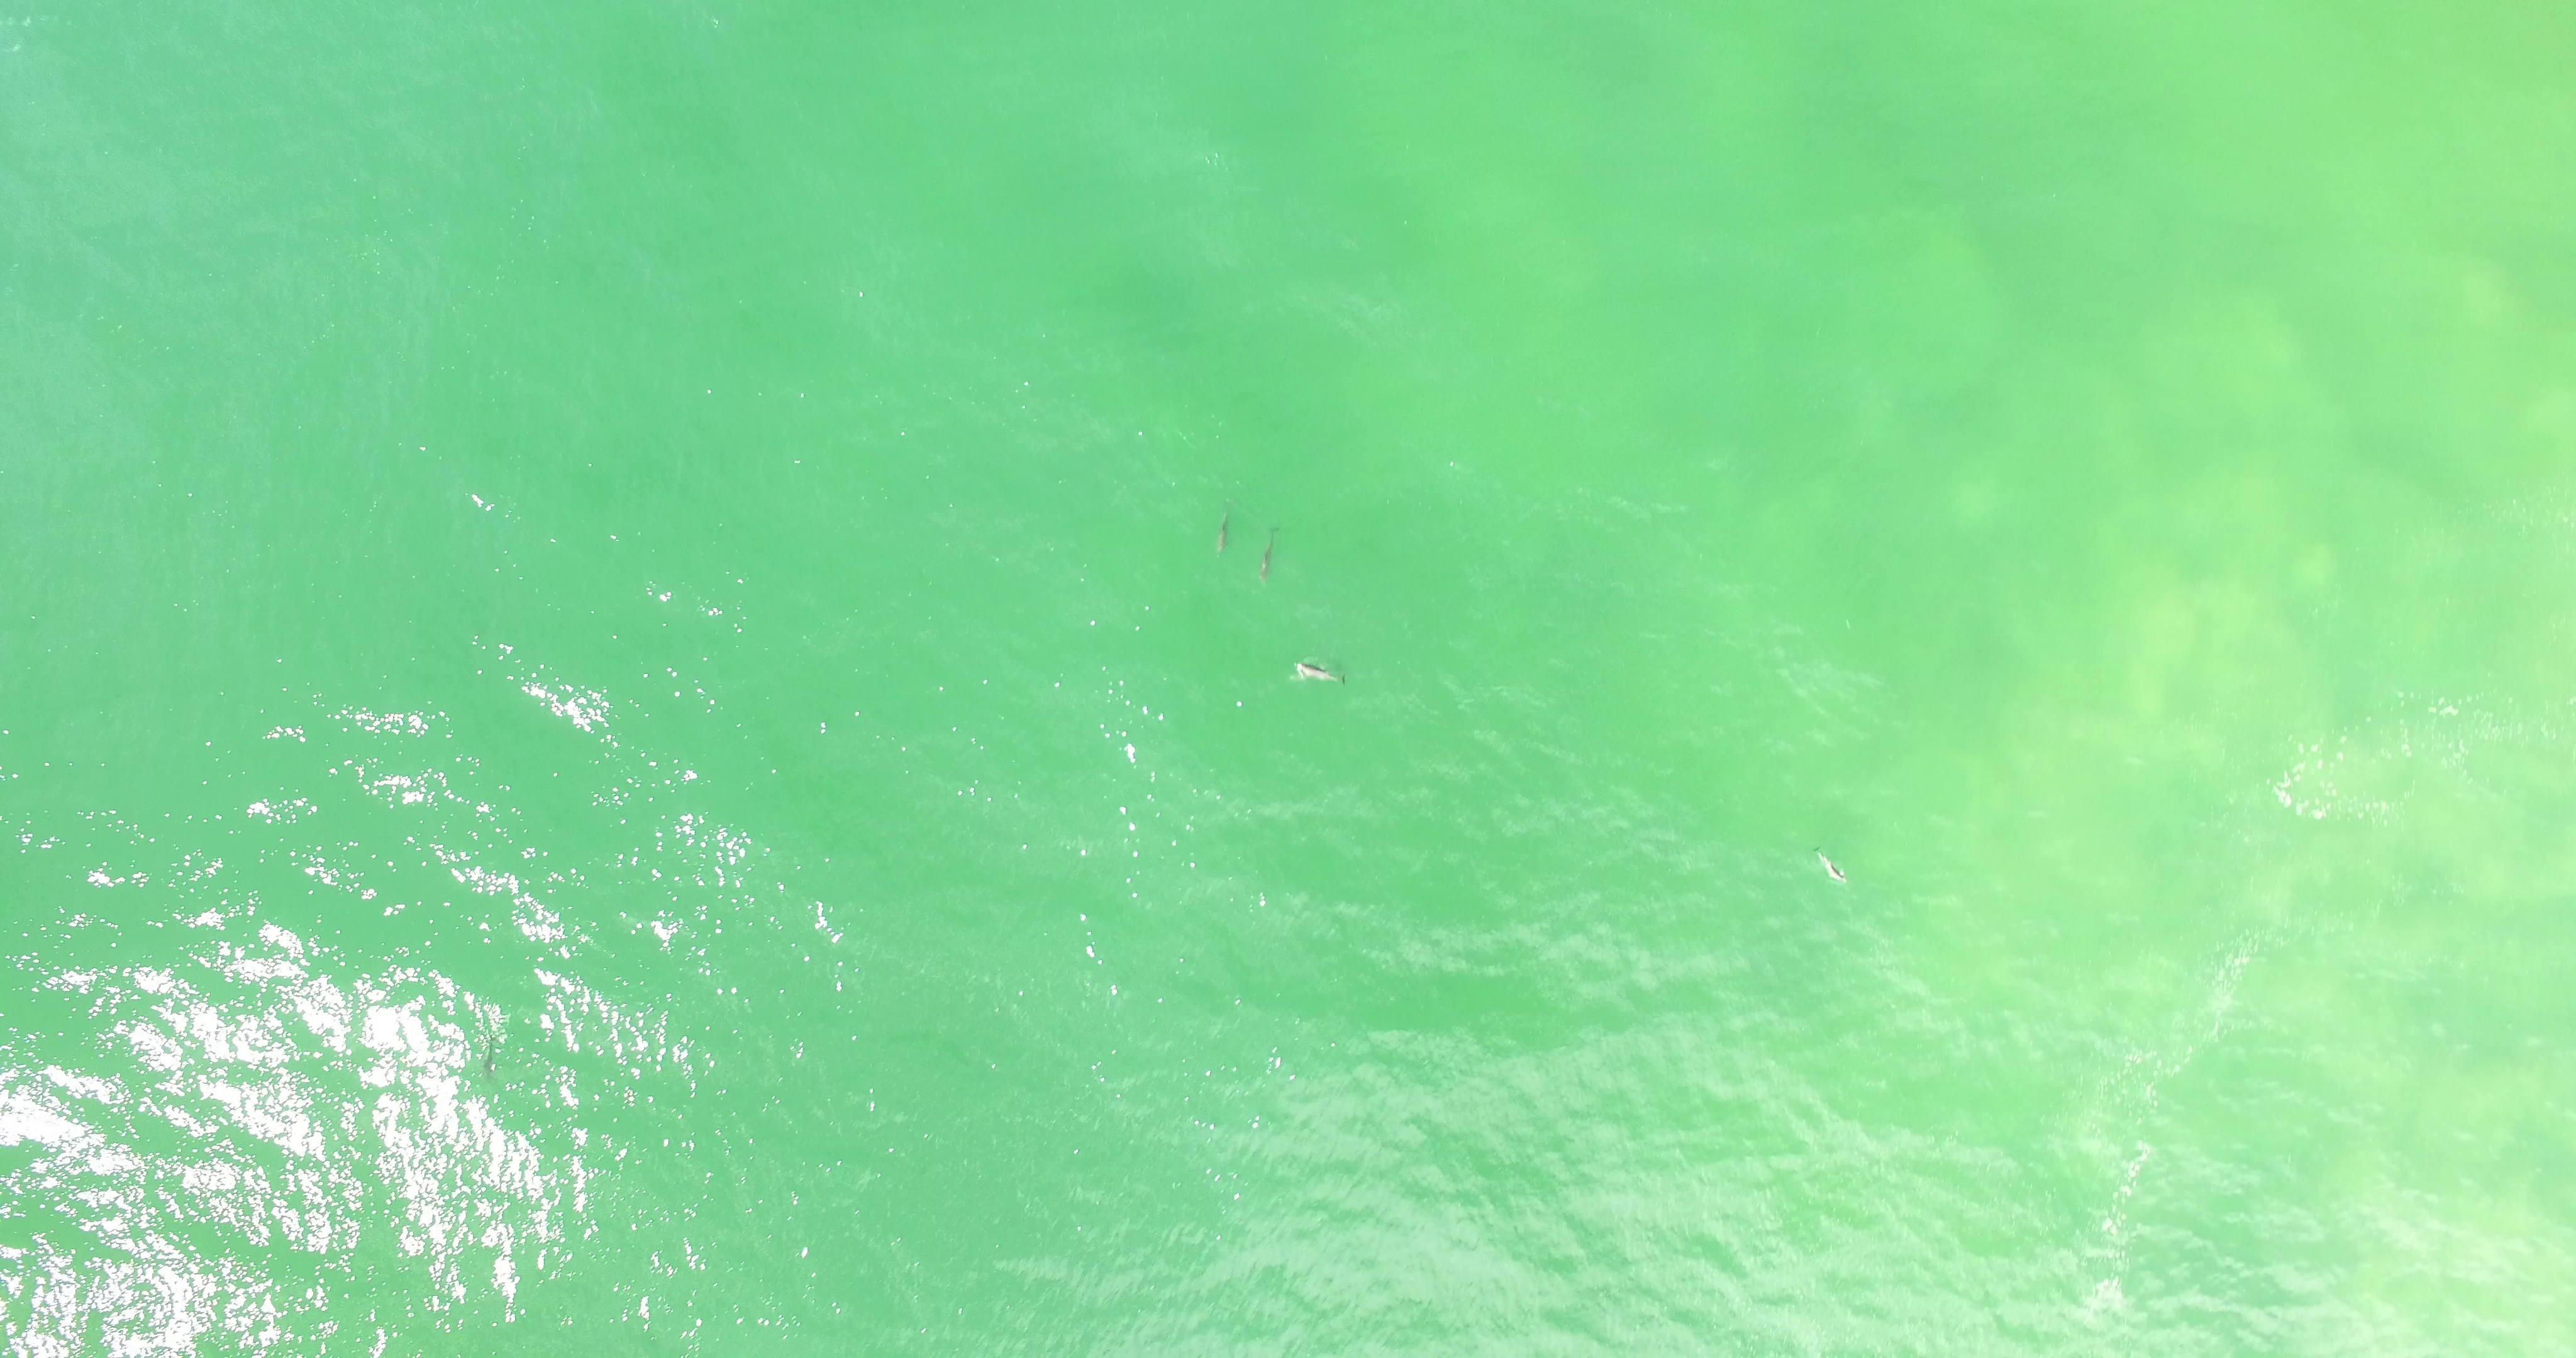dolphin: (1293, 658, 1349, 692), (1211, 492, 1240, 557), (1256, 521, 1283, 588), (1809, 845, 1849, 886), (484, 1033, 499, 1082)
